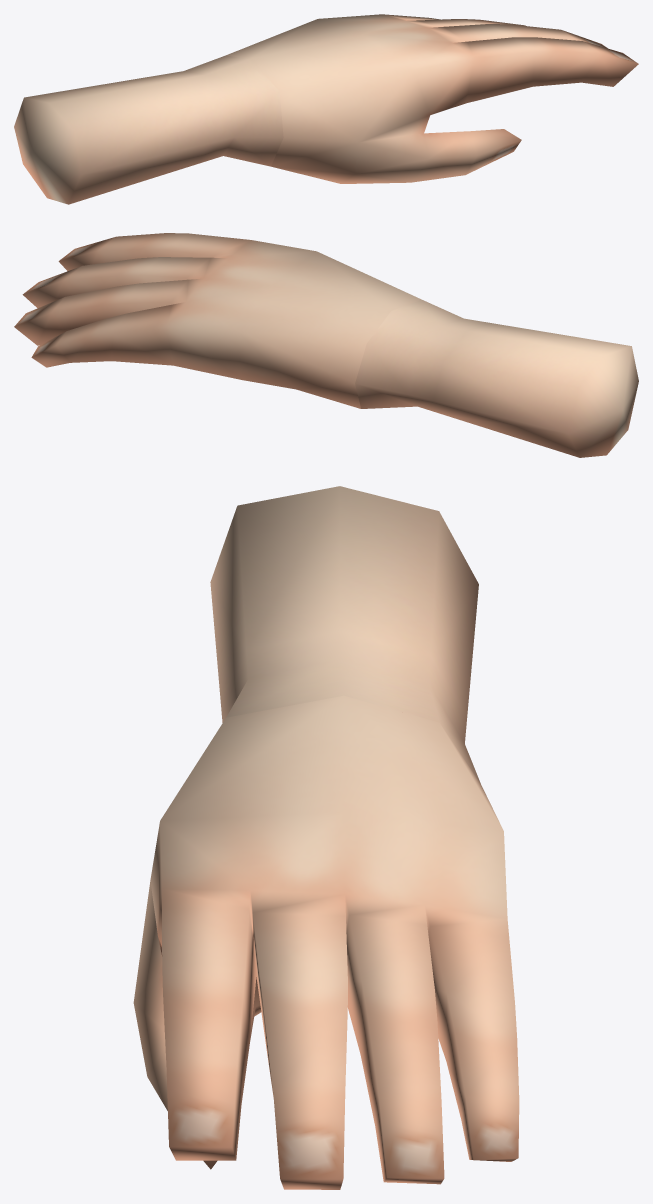
File: hand.FBX
The picture shows the model from 3 angles, top to bottom: view 1: azimuth 30°, elevation 25°; view 2: azimuth 150°, elevation 25°; view 3: azimuth 270°, elevation 25°; orthographic projection. The views are drawn at different scales.
Parts seen in each view (by area): view 1: Object001; view 2: Object001; view 3: Object001.
Part boxes in pixels (x1,y1,x2,y2): Object001: [14, 14, 638, 204]; Object001: [14, 233, 638, 457]; Object001: [133, 486, 519, 1189].
Size of the model in its own units: 9.37 by 2.13 by 2.74.
